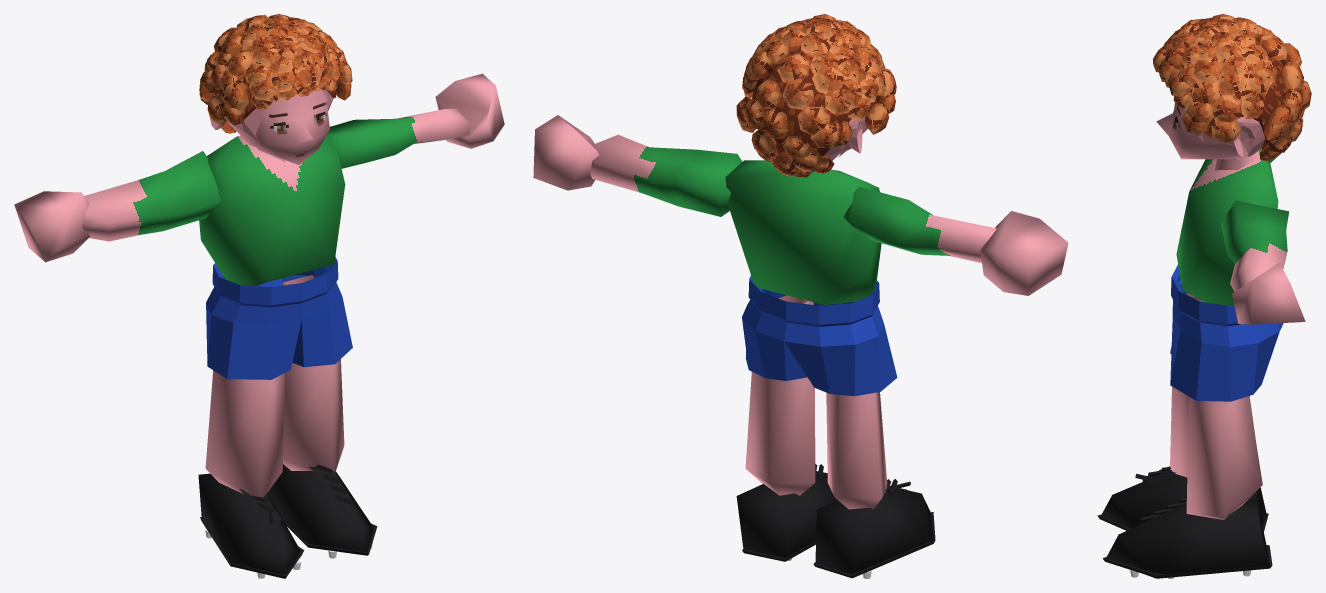
The model's file is 04-cacheado-curto_ruivo.glb.
3 renders of one model, left to right at view 1: azimuth 30°, elevation 25°; view 2: azimuth 150°, elevation 25°; view 3: azimuth 270°, elevation 25°, orthographic. The views are drawn at different scales.
Visible parts, largest first — view 1: Camisa_Tronco, Bermuda, Cabelo, Perna.R, Braco.R, Perna.L, Chuteira.R, Chuteira.L, Braco.L, Mao.R, Cabeca, Mao.L (+2 smaller); view 2: Cabelo, Camisa_Tronco, Bermuda, Perna.L, Braco.L, Chuteira.R, Perna.R, Braco.R, Mao.R, Chuteira.L, Mao.L, Chuteira_Sola.R; view 3: Cabelo, Bermuda, Chuteira.L, Camisa_Tronco, Perna.L, Braco.L, Mao.L, Chuteira.R, Cabeca, Perna.R, Chuteira_Sola.L, Cranio (+4 smaller).
Boxes of the visible parts, bbox=[...] form: Camisa_Tronco: bbox=[199, 135, 345, 285]; Bermuda: bbox=[206, 257, 352, 379]; Cabelo: bbox=[199, 14, 352, 133]; Perna.R: bbox=[205, 370, 284, 501]; Braco.R: bbox=[82, 151, 221, 241]; Perna.L: bbox=[283, 275, 344, 472]; Chuteira.R: bbox=[198, 473, 302, 574]; Chuteira.L: bbox=[267, 464, 373, 551]; Braco.L: bbox=[326, 108, 471, 168]; Mao.R: bbox=[14, 191, 89, 262]; Cabeca: bbox=[230, 89, 329, 165]; Mao.L: bbox=[435, 73, 504, 148]; Cabelo: bbox=[736, 14, 896, 177]; Camisa_Tronco: bbox=[725, 160, 881, 304]; Bermuda: bbox=[742, 276, 897, 396]; Perna.L: bbox=[745, 295, 815, 495]; Braco.L: bbox=[590, 134, 742, 216]; Chuteira.R: bbox=[815, 486, 933, 573]; Perna.R: bbox=[826, 392, 887, 509]; Braco.R: bbox=[843, 186, 996, 262]; Mao.R: bbox=[980, 211, 1068, 295]; Chuteira.L: bbox=[736, 471, 837, 557]; Mao.L: bbox=[533, 115, 599, 190]; Chuteira_Sola.R: bbox=[813, 512, 935, 578]; Cabelo: bbox=[1153, 14, 1311, 161]; Bermuda: bbox=[1170, 265, 1283, 401]; Chuteira.L: bbox=[1106, 499, 1269, 578]; Camisa_Tronco: bbox=[1176, 148, 1278, 305]; Perna.L: bbox=[1186, 396, 1262, 519]; Braco.L: bbox=[1221, 200, 1289, 291]; Mao.L: bbox=[1232, 262, 1305, 324]; Chuteira.R: bbox=[1101, 470, 1266, 528]; Cabeca: bbox=[1156, 103, 1247, 159]; Perna.R: bbox=[1170, 293, 1255, 477]; Chuteira_Sola.L: bbox=[1103, 545, 1272, 578]; Cranio: bbox=[1199, 116, 1264, 159].
Bounding box in the file's own units: 0.4523 × 0.4551 × 0.1663.
3 materials, 3 textured.
